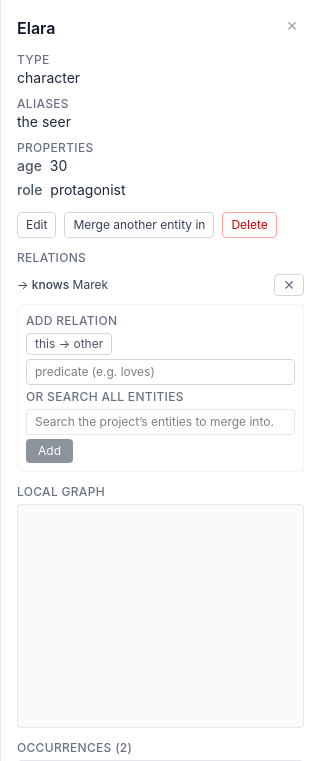
Scenario: ReaderEntityPanel — entity editing (M4.S3a-fe) › surfaces a 400 edit rejection inline and stays in edit mode
Click the button with test id "reader-entity-edit": (37, 225) [17,212,56,238]
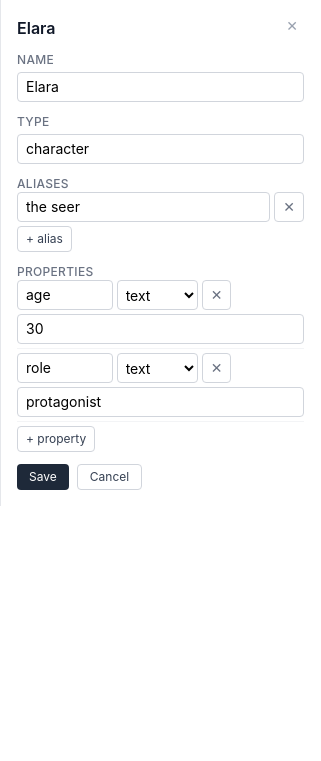
Click the button with test id "reader-entity-save": (43, 477) [17,464,69,490]
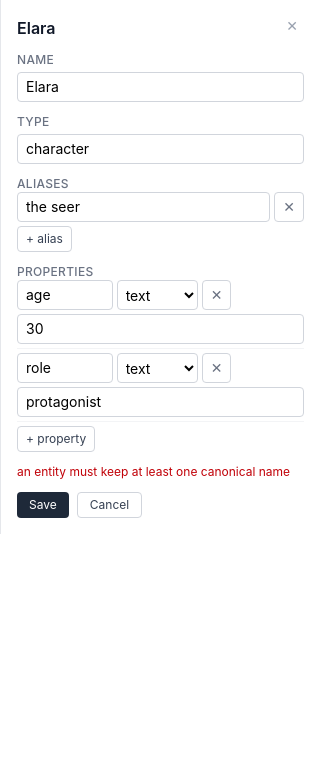
Result: the form with test id "reader-entity-edit-form" is shown at [17,52,304,518]
Result: the message with test id "reader-entity-edit-error" shows "canonical name" at [17,464,290,479]
